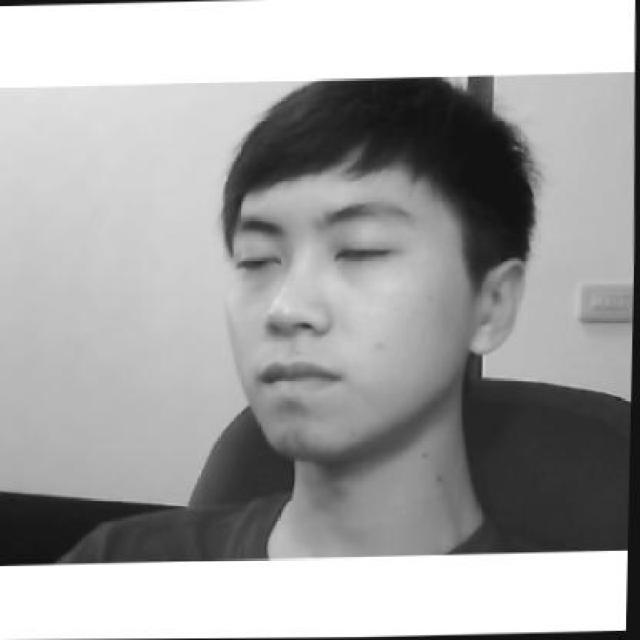inattentif: (217, 74, 532, 449)
